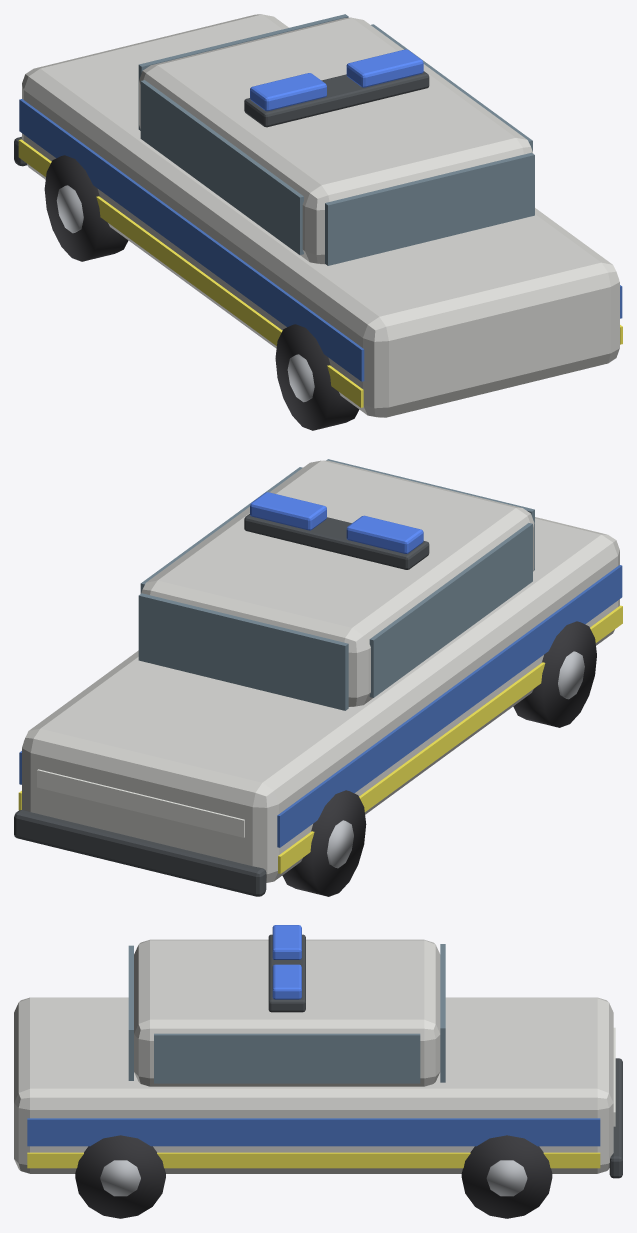
The model's file is PoliceCar.fbx.
3 views of the same model, one above another, from view 1: azimuth 30°, elevation 25°; view 2: azimuth 150°, elevation 25°; view 3: azimuth 270°, elevation 25° (orthographic). The views are drawn at different scales.
Parts seen in each view (by area): view 1: Police_Body, Police_Cabin, Police_RearScreen, Police_StripeL, Police_WindowsL, Police_CheckL, Police_Wheel0, Police_Wheel2, Police_LightBar, Police_LampR, Police_LampL, Police_Windscreen (+3 smaller); view 2: Police_Body, Police_Cabin, Police_Windscreen, Police_StripeL, Police_WindowsL, Police_Bumper, Police_CheckL, Police_Wheel2, Police_Wheel0, Police_Headlights, Police_LightBar, Police_LampL (+3 smaller); view 3: Police_Body, Police_Cabin, Police_StripeR, Police_WindowsR, Police_CheckR, Police_Wheel1, Police_Wheel3, Police_LightBar, Police_Hub3, Police_Hub1, Police_Bumper, Police_LampR (+3 smaller).
Part boxes in pixels (x1,y1,x2,y2): Police_Body: [22, 14, 619, 417]; Police_Cabin: [139, 17, 533, 264]; Police_RearScreen: [325, 152, 534, 265]; Police_StripeL: [19, 99, 364, 381]; Police_WindowsL: [140, 80, 303, 254]; Police_CheckL: [18, 139, 363, 407]; Police_Wheel0: [44, 155, 128, 261]; Police_Wheel2: [275, 324, 359, 430]; Police_LightBar: [244, 71, 429, 127]; Police_LampR: [346, 49, 423, 87]; Police_LampL: [250, 73, 326, 111]; Police_Windscreen: [138, 14, 348, 130]; Police_Body: [22, 517, 619, 882]; Police_Cabin: [141, 460, 534, 706]; Police_Windscreen: [138, 593, 348, 710]; Police_StripeL: [277, 565, 622, 847]; Police_WindowsL: [369, 523, 532, 697]; Police_Bumper: [14, 810, 266, 896]; Police_CheckL: [278, 605, 622, 873]; Police_Wheel2: [513, 621, 596, 727]; Police_Wheel0: [282, 790, 366, 896]; Police_Headlights: [37, 769, 244, 837]; Police_LightBar: [244, 514, 429, 569]; Police_LampL: [346, 515, 423, 553]; Police_Body: [14, 997, 613, 1173]; Police_Cabin: [134, 939, 440, 1086]; Police_StripeR: [27, 1118, 600, 1146]; Police_WindowsR: [154, 1033, 420, 1083]; Police_CheckR: [27, 1152, 600, 1168]; Police_Wheel1: [461, 1135, 552, 1218]; Police_Wheel3: [75, 1135, 165, 1218]; Police_LightBar: [268, 934, 305, 1012]; Police_Hub3: [100, 1160, 140, 1196]; Police_Hub1: [486, 1160, 527, 1196]; Police_Bumper: [609, 1058, 622, 1178]; Police_LampR: [272, 964, 301, 999].
Size of the model in its own units: 1.98 by 1.72 by 4.57.
